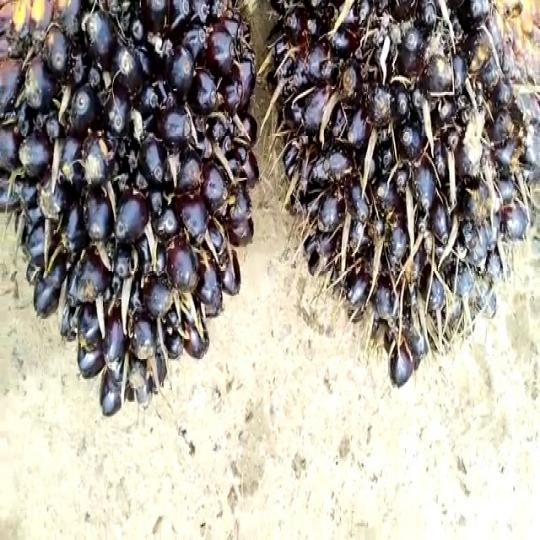mentah: (0, 0, 274, 405), (268, 0, 532, 407)
